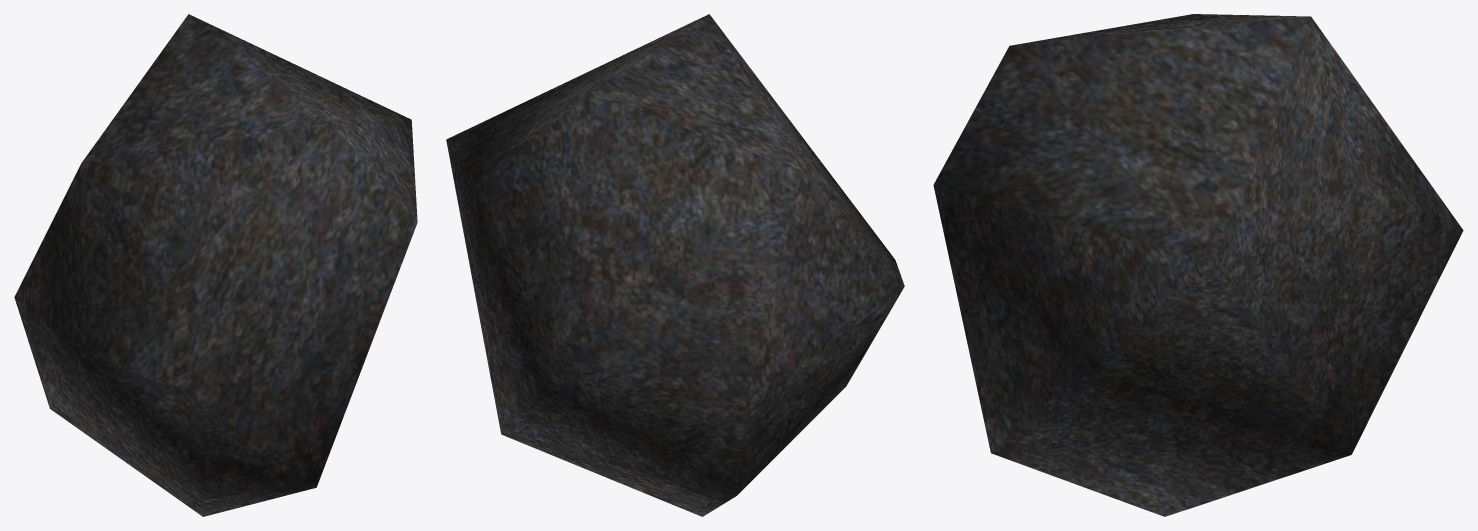
The model's file is asteroid_metal_radial_s01_l3.fbx.
3 renders of one model, left to right at view 1: azimuth 30°, elevation 25°; view 2: azimuth 150°, elevation 25°; view 3: azimuth 270°, elevation 25°, orthographic. The views are drawn at different scales.
Parts seen in each view (by area): view 1: mesh_node; view 2: mesh_node; view 3: mesh_node.
Part boxes in pixels (x1,y1,x2,y2): mesh_node: (14,14,417,516); mesh_node: (446,14,904,516); mesh_node: (933,14,1463,516).
Bounding box in the file's own units: 4.5 × 5.02 × 4.57.
